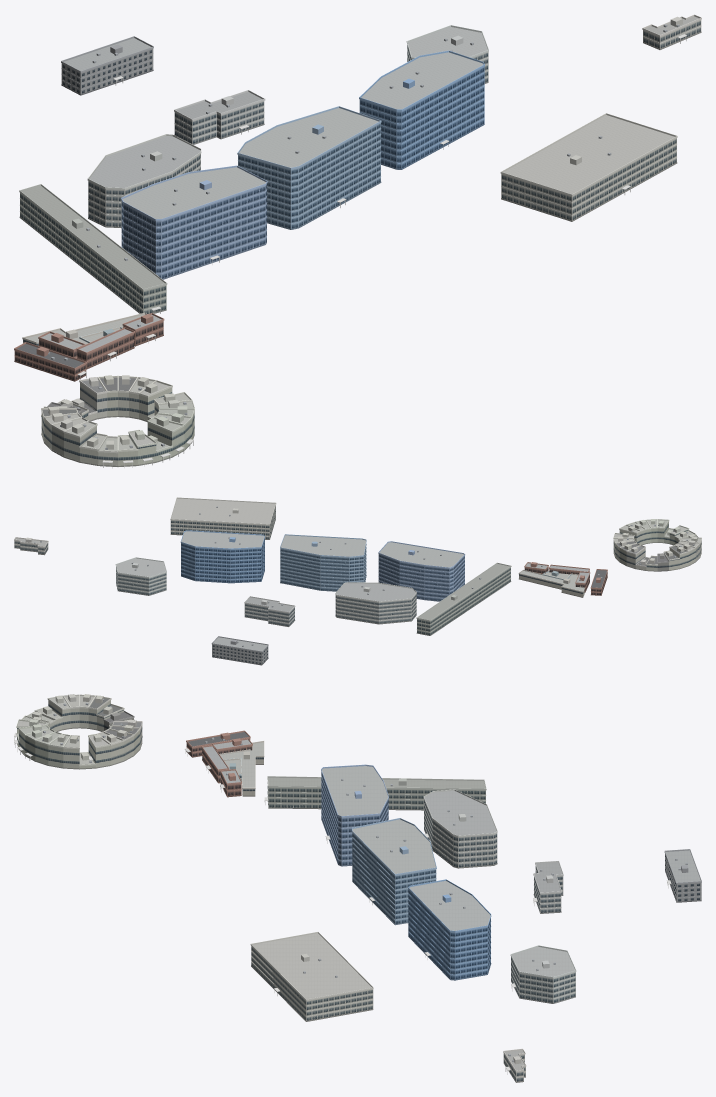
3 views of the same model, one above another, from view 1: azimuth 30°, elevation 25°; view 2: azimuth 150°, elevation 25°; view 3: azimuth 270°, elevation 25° (orthographic). The views are drawn at different scales.
Visible parts, largest first — view 1: 1424945039, 1424945037, 1424986311, 1424945036, 1316305739, 1424945040, 1057168414, 1114843837, 1424945038, cwjq-3, cwjq-4, 1424977472 (+7 smaller); view 2: 1424945037, 1424945036, 1424945039, 1424986311, 1424945040, 1316305739, 1424945038, 1057168414, 1114843837, cwjq-1, 1424977472, cwjq-3 (+2 smaller); view 3: 1424986311, 1424945036, 1424945037, 1424945040, 1424945039, 1316305739, 1424945038, 1057168414, 1114843837, cwjq-1, cwjq-3, manual-28-22 (+1 smaller).
Boxes of the visible parts, bbox=[...] form: 1424945039: bbox=[121, 165, 267, 279]; 1424945037: bbox=[237, 106, 381, 229]; 1424986311: bbox=[500, 113, 677, 221]; 1424945036: bbox=[359, 50, 484, 169]; 1316305739: bbox=[19, 184, 167, 313]; 1424945040: bbox=[87, 134, 201, 228]; 1057168414: bbox=[61, 36, 153, 95]; 1114843837: bbox=[174, 90, 265, 144]; 1424945038: bbox=[406, 25, 488, 83]; cwjq-3: bbox=[14, 342, 86, 381]; cwjq-4: bbox=[76, 327, 134, 369]; 1424977472: bbox=[642, 14, 701, 49]; 1424945037: bbox=[280, 534, 366, 591]; 1424945036: bbox=[180, 530, 265, 583]; 1424945039: bbox=[378, 541, 465, 601]; 1424986311: bbox=[170, 497, 276, 539]; 1424945040: bbox=[335, 582, 416, 624]; 1316305739: bbox=[416, 562, 511, 635]; 1424945038: bbox=[115, 557, 166, 595]; 1057168414: bbox=[211, 636, 268, 665]; 1114843837: bbox=[244, 596, 295, 626]; cwjq-1: bbox=[518, 569, 584, 597]; 1424977472: bbox=[14, 537, 48, 555]; cwjq-3: bbox=[590, 569, 607, 595]; 1424986311: bbox=[250, 932, 373, 1021]; 1424945036: bbox=[408, 879, 491, 980]; 1424945037: bbox=[352, 818, 436, 925]; 1424945040: bbox=[423, 789, 497, 868]; 1424945039: bbox=[321, 764, 388, 866]; 1316305739: bbox=[264, 776, 486, 810]; 1424945038: bbox=[510, 945, 576, 1003]; 1057168414: bbox=[664, 849, 701, 902]; 1114843837: bbox=[533, 861, 563, 913]; cwjq-1: bbox=[219, 741, 264, 796]; cwjq-3: bbox=[185, 730, 250, 757]; manual-28-22: bbox=[88, 734, 111, 768].
Size of the model in its own units: 554 by 38 by 439.
5 materials, 4 textured.
